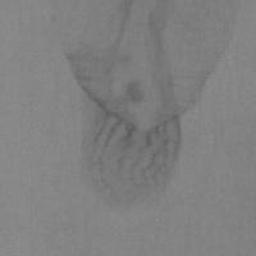Water spot: (47, 0, 236, 210)
